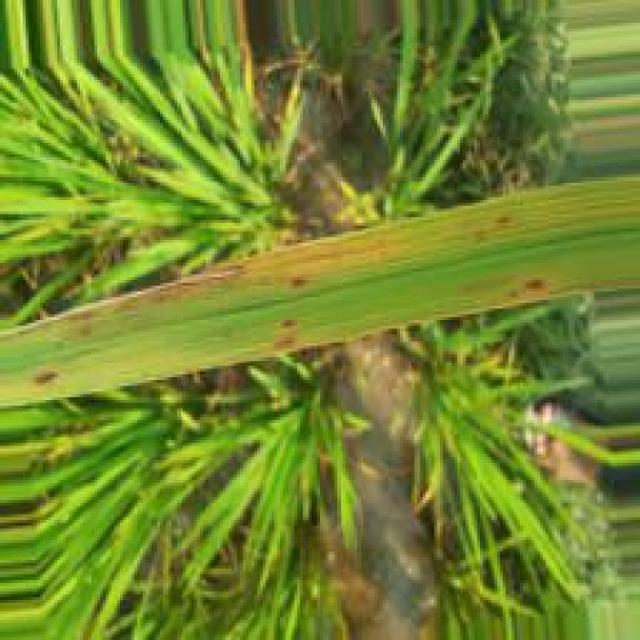Brown_Spot: (106, 259, 257, 317), (265, 333, 303, 353), (32, 369, 67, 390), (524, 277, 553, 296), (289, 272, 314, 292), (277, 318, 304, 330)
